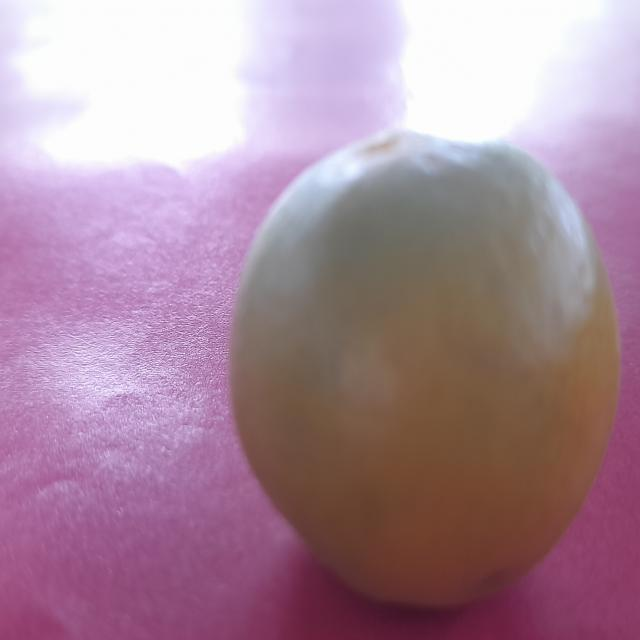greening: (222, 136, 615, 614)
